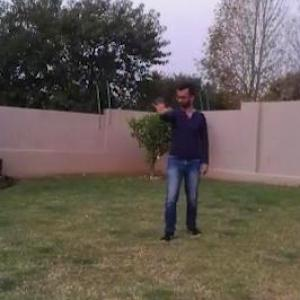follow_hand: (148, 92, 171, 117)
